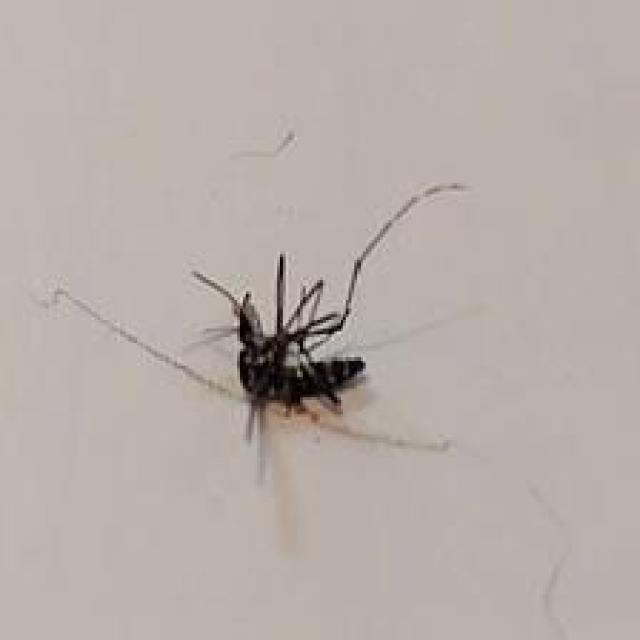Aedes albopictus: (36, 177, 478, 486)
